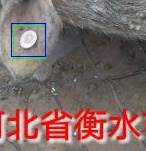text: (13, 25, 45, 58)
